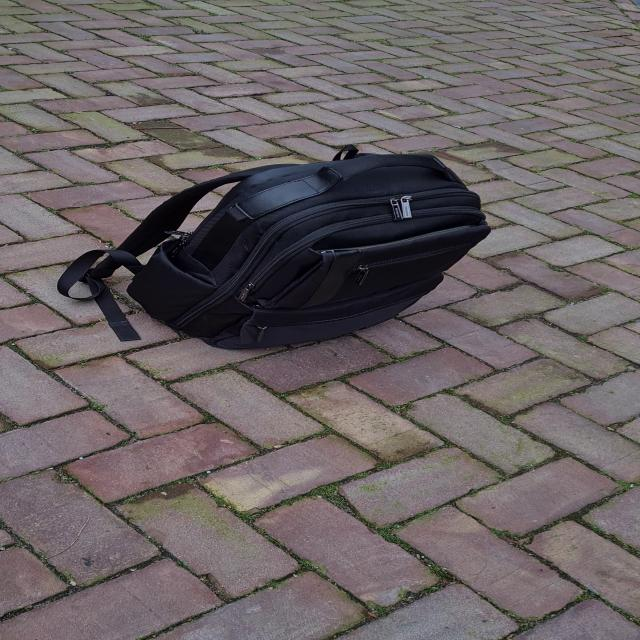backpack: (90, 144, 503, 356)
